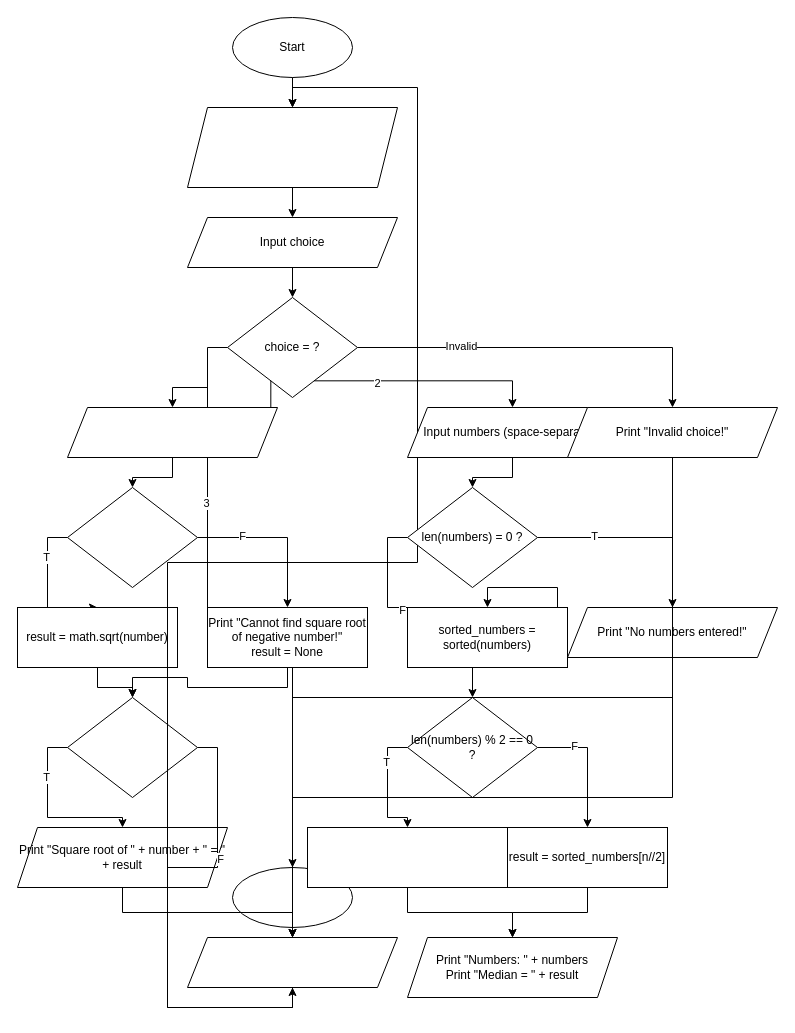
The diagram is 795 pixels wide and 1033 high, and some of its shapes have lost their labels. The shapes that lost their labels are listed below. From the top down, each one's box as (x1, y1, x2, y2) in pixels, then its label:
(186, 106, 398, 188): Display Menu: 1. Square Root 2. Find Median 3. Back to Main Menu
(66, 406, 278, 458): Input number
(66, 486, 198, 588): number > 0
(66, 696, 198, 798): result is not None?
(306, 826, 508, 888): result = (sorted_numbers[n//2-1] + sorted_numbers[n//2]) / 2
(232, 866, 352, 928): Stop
(186, 936, 398, 988): Pause for Enter
